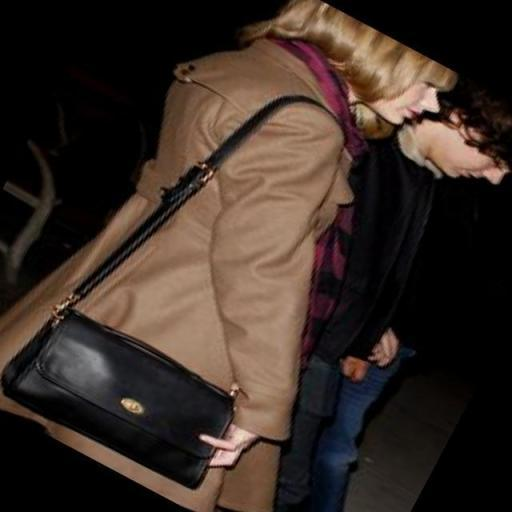bag: (2, 279, 246, 497)
